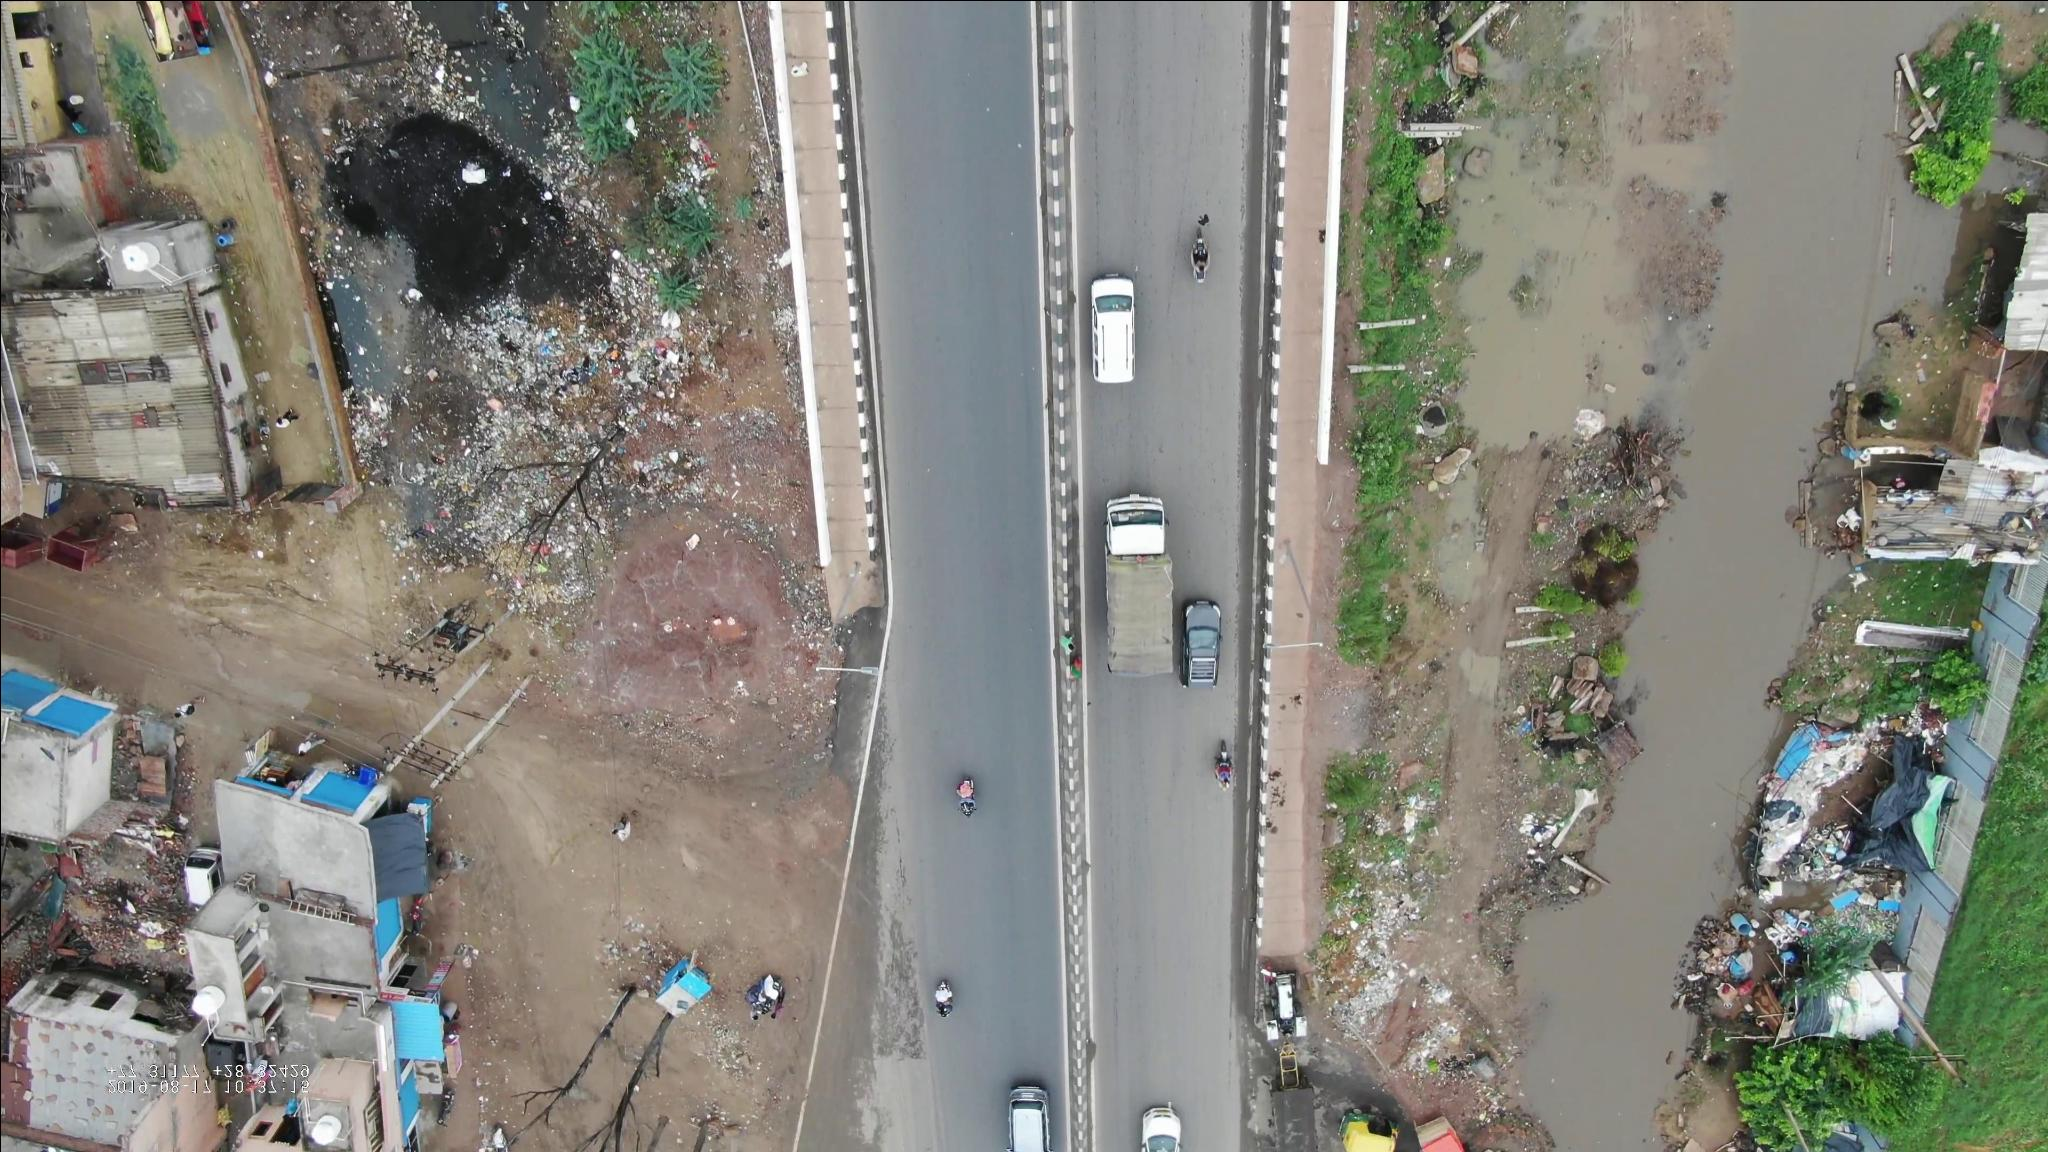Ravelling: (855, 857, 930, 1069)
Road_side_garbage: (407, 248, 720, 546)
